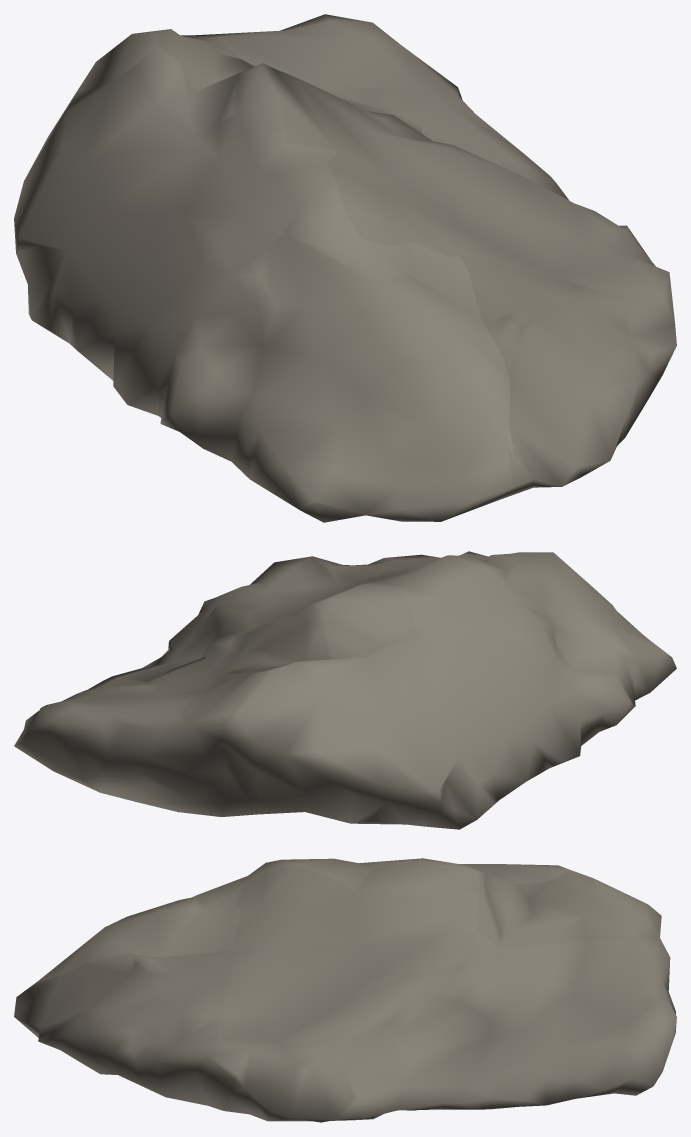
File: ph_moonrock_4.glb
3 renders of one model, top to bottom at view 1: azimuth 30°, elevation 25°; view 2: azimuth 150°, elevation 25°; view 3: azimuth 270°, elevation 25°, orthographic. The views are drawn at different scales.
Parts seen in each view (by area): view 1: ph_moonrock_4_lod1; view 2: ph_moonrock_4_lod1; view 3: ph_moonrock_4_lod1.
Part boxes in pixels (x1,y1,x2,y2): ph_moonrock_4_lod1: [14, 14, 676, 522]; ph_moonrock_4_lod1: [14, 551, 676, 829]; ph_moonrock_4_lod1: [14, 858, 676, 1122].
Size of the model in its own units: 0.1194 by 0.0533 by 0.1734.
1 material, 1 textured.
